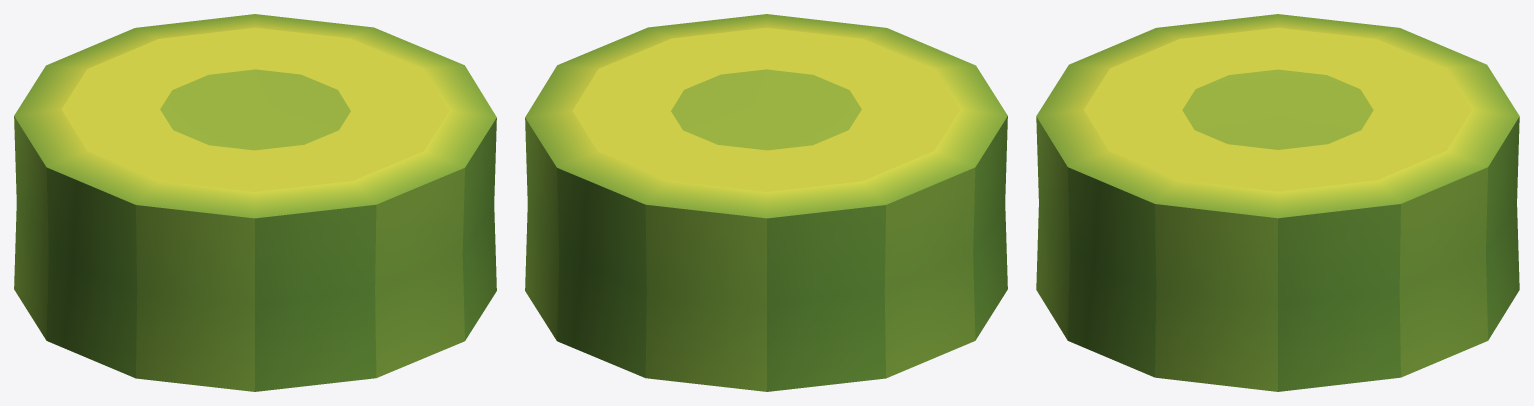
The model's file is Cucumber_Slice_02.glb.
3 views of the same model, side by side, from view 1: azimuth 30°, elevation 25°; view 2: azimuth 150°, elevation 25°; view 3: azimuth 270°, elevation 25° (orthographic).
Visible parts, largest first — view 1: Cucumber_Slice_02; view 2: Cucumber_Slice_02; view 3: Cucumber_Slice_02.
Boxes of the visible parts, x1,y1,x2,y2 form: Cucumber_Slice_02: (14, 14, 496, 391); Cucumber_Slice_02: (525, 14, 1007, 391); Cucumber_Slice_02: (1036, 14, 1519, 391).
Size of the model in its own units: 0.1981 by 0.0842 by 0.1981.
Materials: 1 (1 with a texture image).
